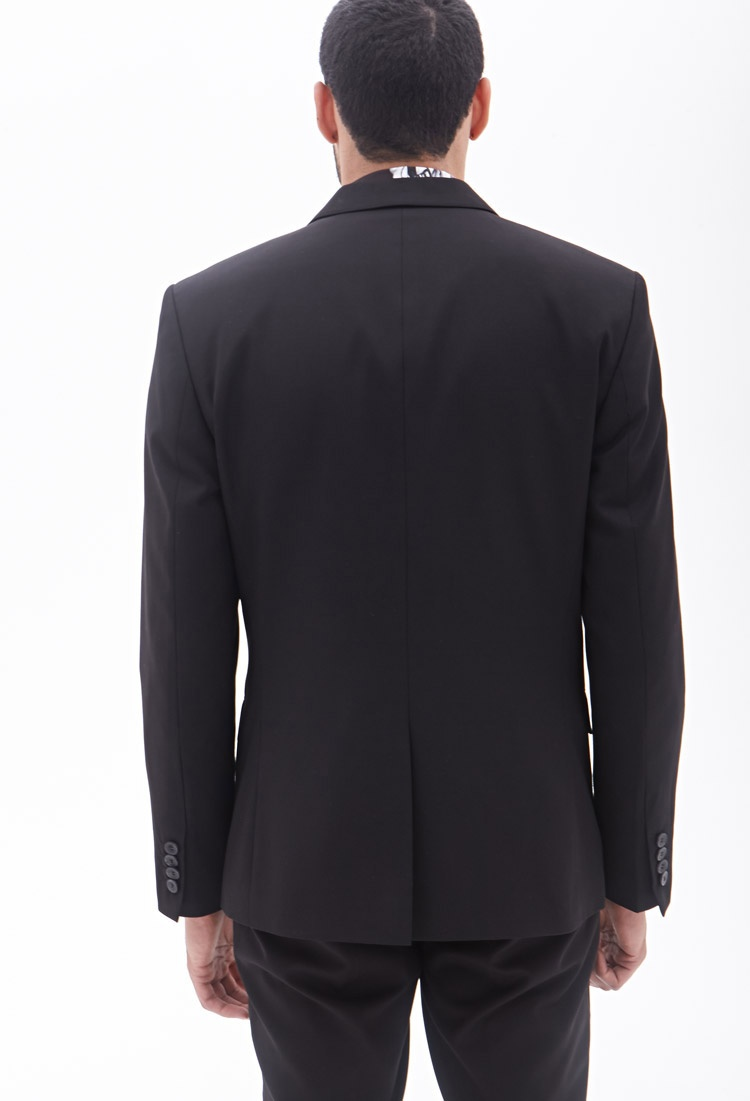F_M_suit jacket: (103, 181, 700, 918)
F_dress pants: (235, 879, 601, 1084)
